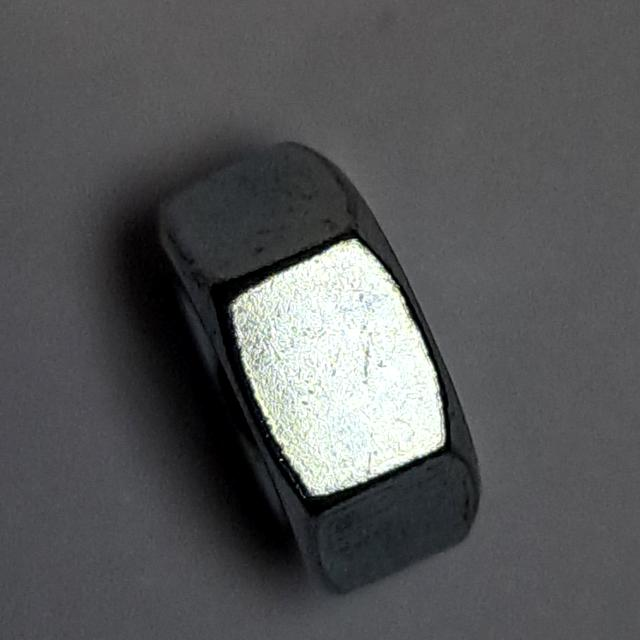Side_Excellent: (138, 128, 494, 606)
